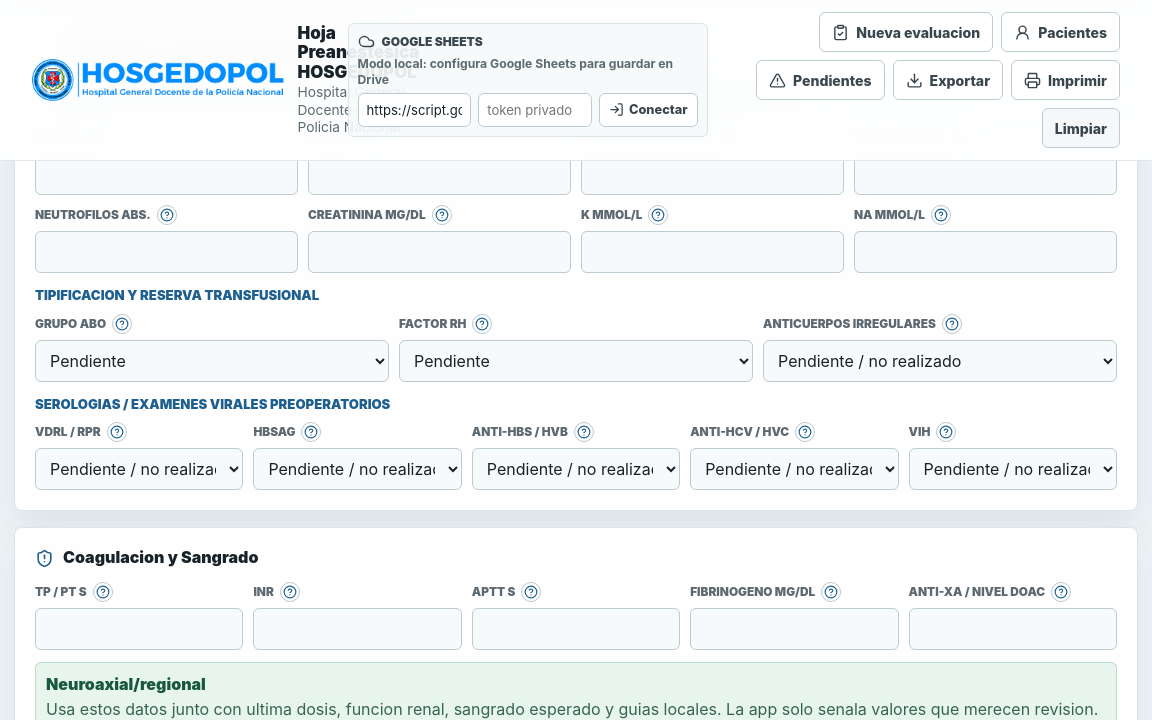
Test: App › includes blood typing and personalized recommendations
(page scrolled)
Select "O" in the dropdown named "Grupo ABO": x=212, y=361 [35,340,389,382]
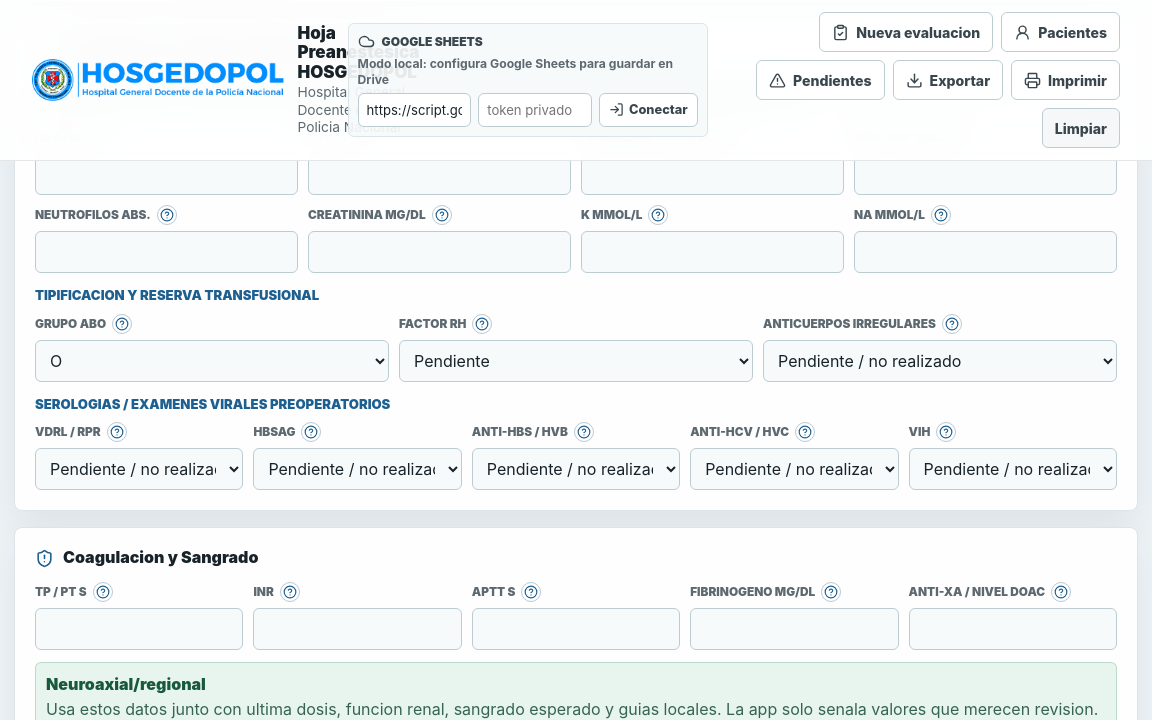
Select "Rh positivo" in the dropdown named "Factor Rh": x=576, y=361 [399,340,753,382]
(page scrolled)
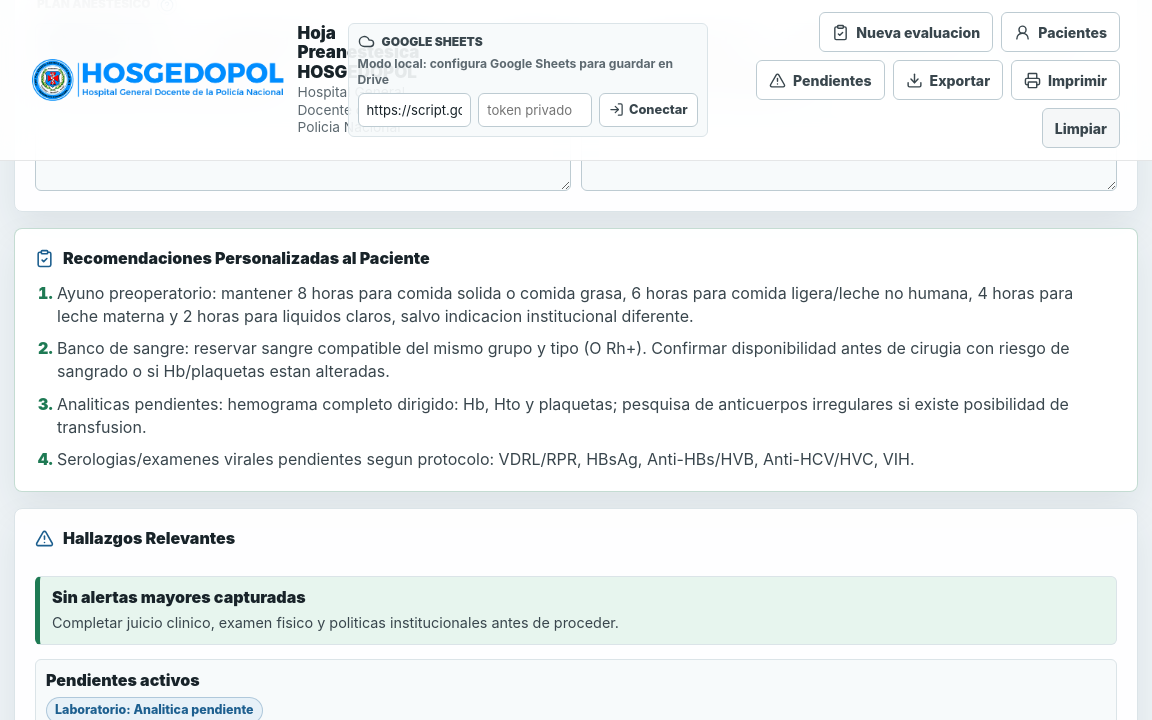
Now the list item "reservar sangre compatible" shows "O Rh+", box [57,338,1070,381]
